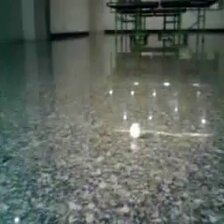w: (129, 121, 142, 139)
